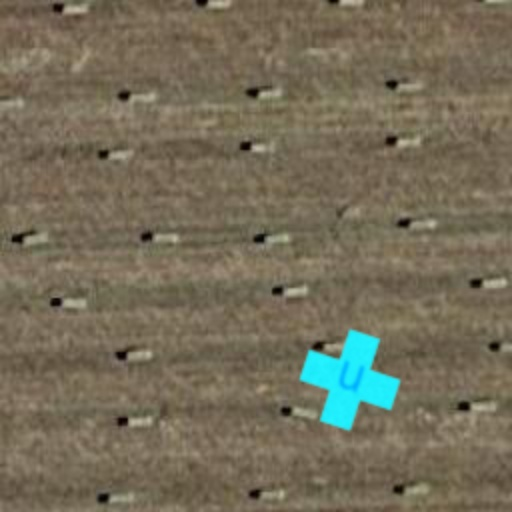cross: (288, 318, 412, 442)
